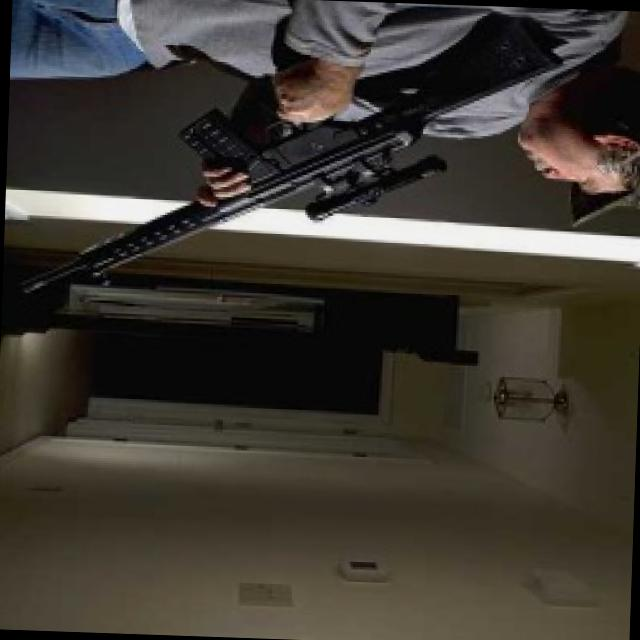long weapon: (25, 2, 559, 330)
